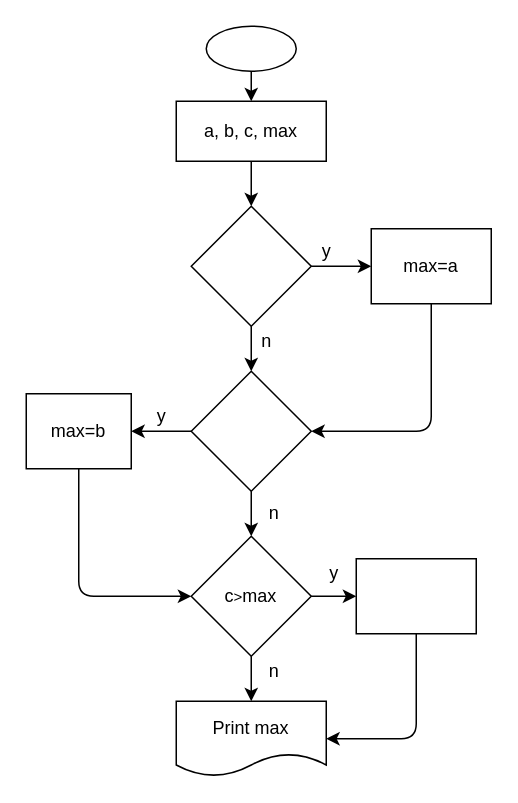
Image size: 518x803. Some labels were removed from this diagram. Here are the shapes that lost their labels. From the top down, the centre of each, then its label:
[250,265]: a > max
[250,430]: b > max
[415,595]: max=c
